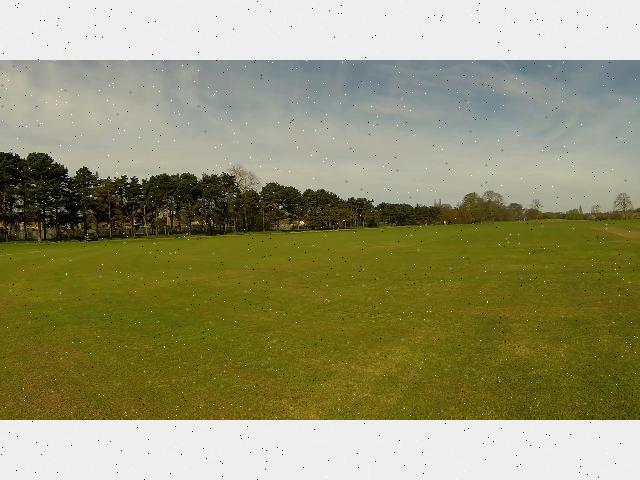Anti-Drone: (271, 166, 285, 174)
